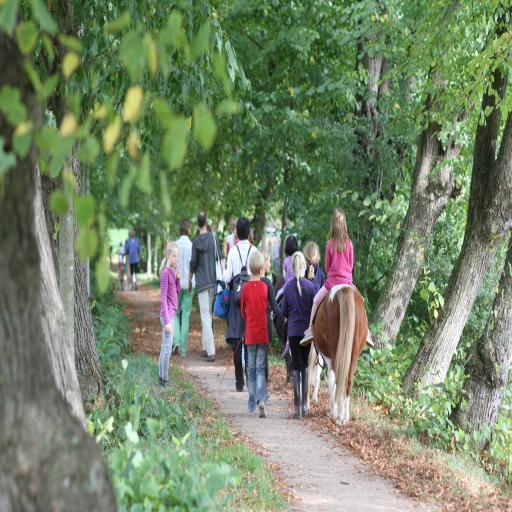Horse: (312, 284, 368, 430)
